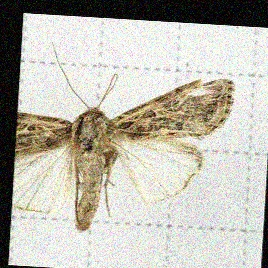Spodoptera litura: (16, 46, 232, 237)
